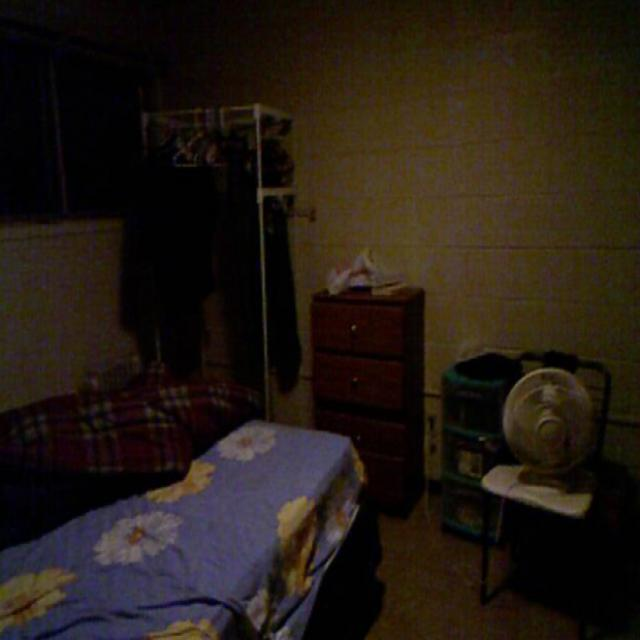bed: (16, 398, 366, 640)
beside table: (308, 258, 422, 510), (444, 344, 504, 552)
chair: (508, 327, 626, 576)
